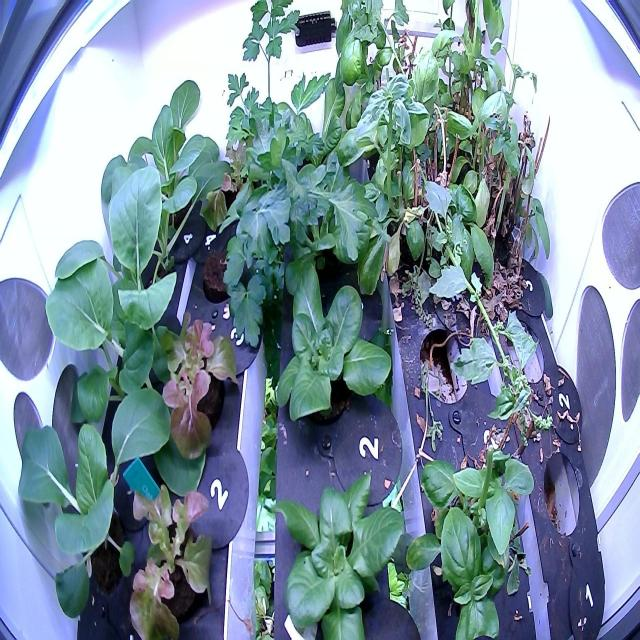empty_pod: (413, 322, 473, 408), (538, 444, 584, 540), (502, 316, 548, 385)
pod: (196, 237, 246, 310)
young: (266, 462, 408, 638), (266, 257, 396, 429)
